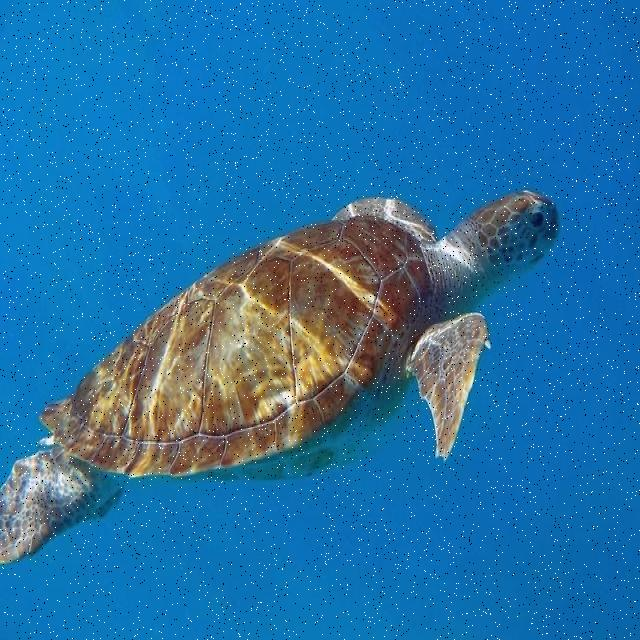fish: (0, 188, 560, 565)
